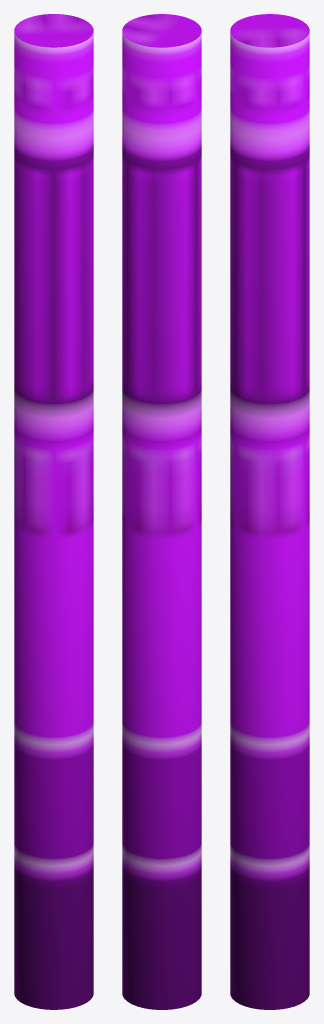
File: flag1v.obj
3 renders of one model, left to right at view 1: azimuth 90°, elevation 25°; view 2: azimuth 150°, elevation 25°; view 3: azimuth 270°, elevation 25°, orthographic.
Visible parts, largest first — view 1: ColobotMesh_1_ColobotMesh_; view 2: ColobotMesh_1_ColobotMesh_; view 3: ColobotMesh_1_ColobotMesh_.
Boxes of the visible parts, <box> form: ColobotMesh_1_ColobotMesh_: <box>14,14,93,1009</box>; ColobotMesh_1_ColobotMesh_: <box>122,14,201,1009</box>; ColobotMesh_1_ColobotMesh_: <box>230,14,309,1009</box>.
Size of the model in its own units: 0.5986 by 7.99 by 0.5993.
